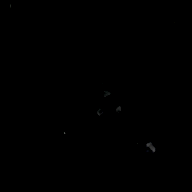v: (93, 88, 121, 116)
